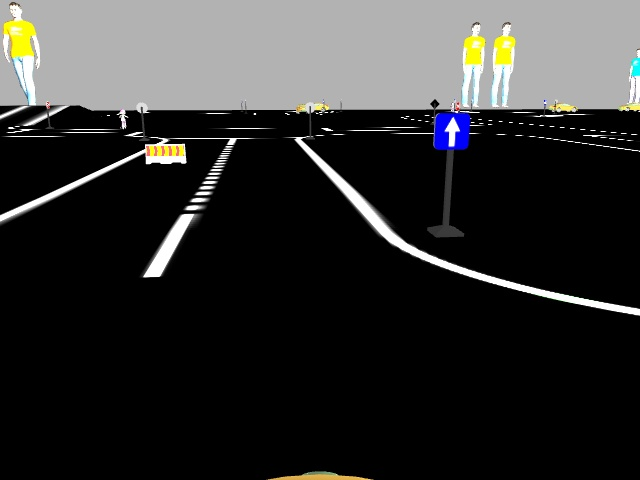ClosedRoadStand: (145, 146, 184, 163)
OneWay: (436, 113, 467, 146)
